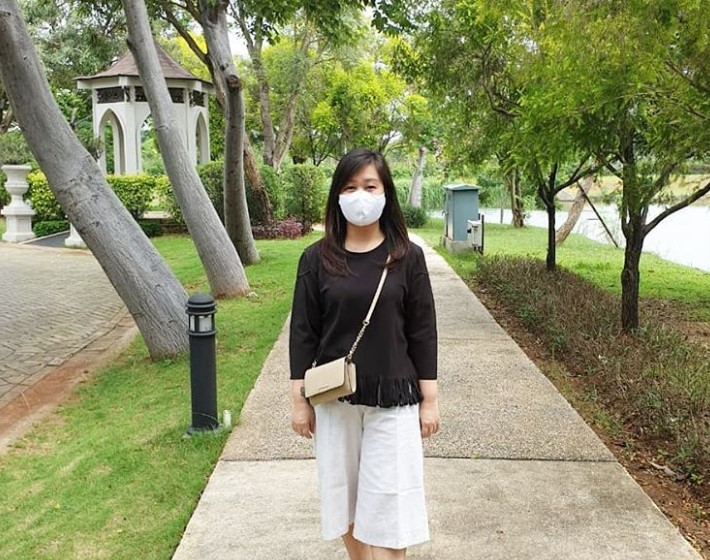face_with_mask: (332, 153, 390, 230)
